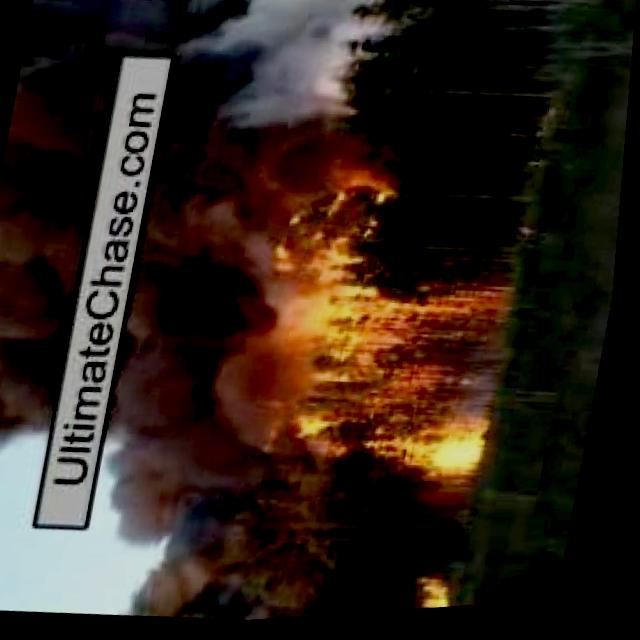helmet: (270, 280, 532, 502), (271, 165, 398, 282), (415, 565, 473, 616)
no_helmet: (85, 0, 390, 633), (0, 0, 129, 451)
